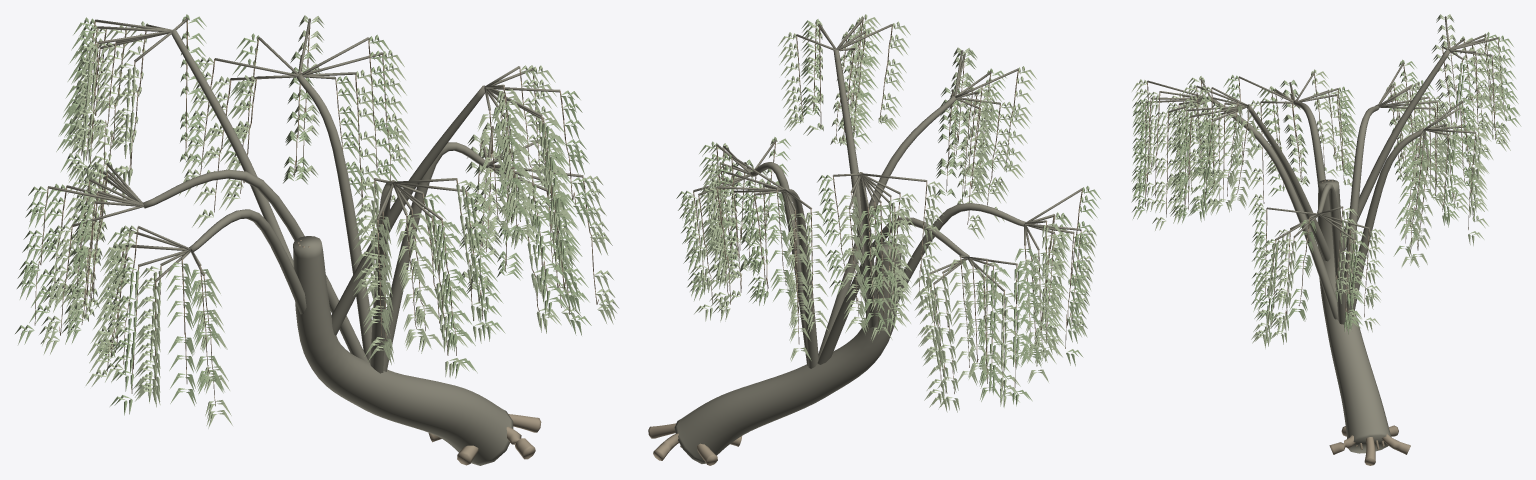
Rendered from grove-willow-8.glb.
3 views of the same model, side by side, from view 1: azimuth 30°, elevation 25°; view 2: azimuth 150°, elevation 25°; view 3: azimuth 270°, elevation 25° (orthographic). The views are drawn at different scales.
Parts seen in each view (by area): view 1: grove-willow-8; view 2: grove-willow-8; view 3: grove-willow-8.
Part boxes in pixels (left/top/right/bottom): grove-willow-8: left=15, top=14, right=619, bottom=465; grove-willow-8: left=648, top=14, right=1100, bottom=465; grove-willow-8: left=1131, top=14, right=1521, bottom=465.
Bounding box in the file's own units: 7.56 × 6.91 × 7.22.
